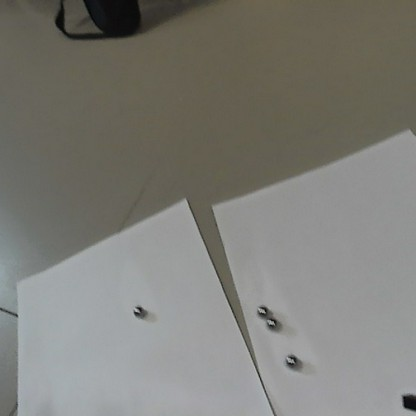ironball: (254, 303, 271, 318), (131, 301, 145, 318), (265, 313, 277, 330), (284, 353, 296, 367)
